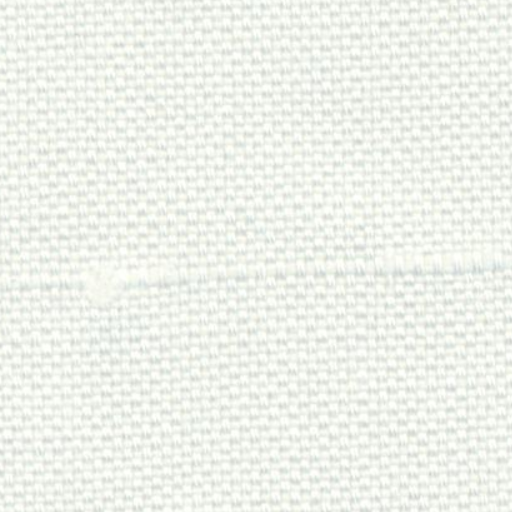DaiSha: (92, 240, 500, 300)
